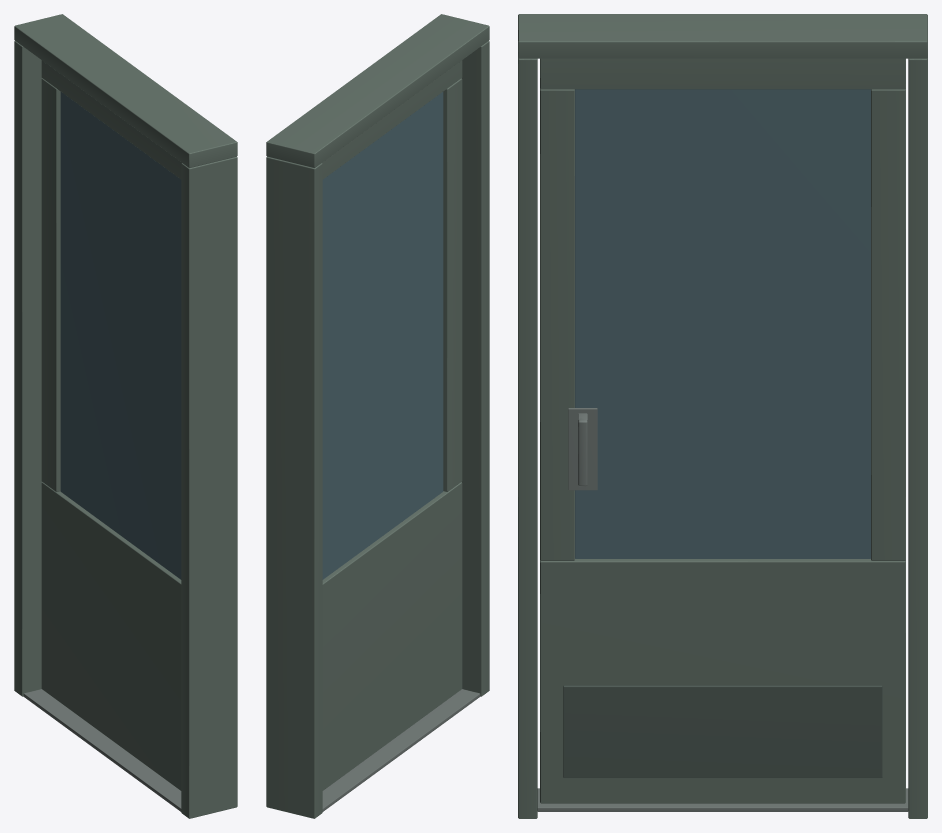
File: Diner_Main_Entrance.fbx
The picture shows the model from 3 angles, left to right: view 1: azimuth 30°, elevation 25°; view 2: azimuth 150°, elevation 25°; view 3: azimuth 270°, elevation 25°; orthographic projection. The views are drawn at different scales.
Visible parts, largest first — view 1: Diner_Main_Entrance_Door_Leaf, Diner_Main_Entrance_Frame; view 2: Diner_Main_Entrance_Door_Leaf, Diner_Main_Entrance_Frame; view 3: Diner_Main_Entrance_Door_Leaf, Diner_Main_Entrance_Frame.
Part boxes in pixels (bbox=[...]): Diner_Main_Entrance_Door_Leaf: bbox=[41, 60, 181, 790]; Diner_Main_Entrance_Frame: bbox=[14, 14, 237, 818]; Diner_Main_Entrance_Door_Leaf: bbox=[322, 60, 462, 790]; Diner_Main_Entrance_Frame: bbox=[266, 14, 489, 818]; Diner_Main_Entrance_Door_Leaf: bbox=[540, 58, 905, 803]; Diner_Main_Entrance_Frame: bbox=[518, 14, 927, 818].
Size of the model in its own units: 0.17 by 2.2 by 1.05.
